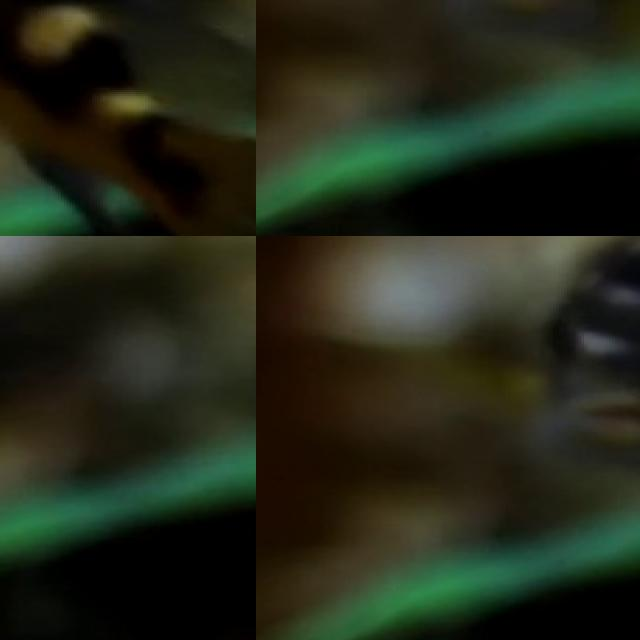fish: (0, 0, 256, 236), (446, 236, 640, 498)
